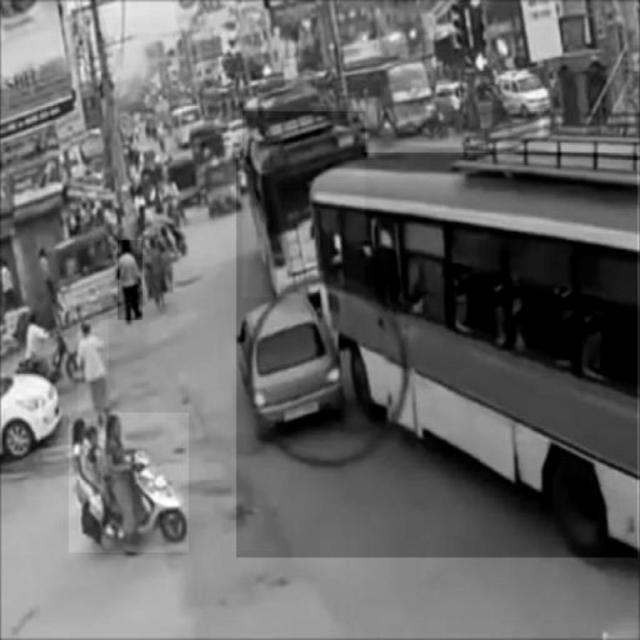accident: (236, 153, 637, 557)
person: (78, 311, 108, 427), (118, 240, 143, 320)
vehicle: (243, 111, 365, 297), (69, 413, 189, 553)
